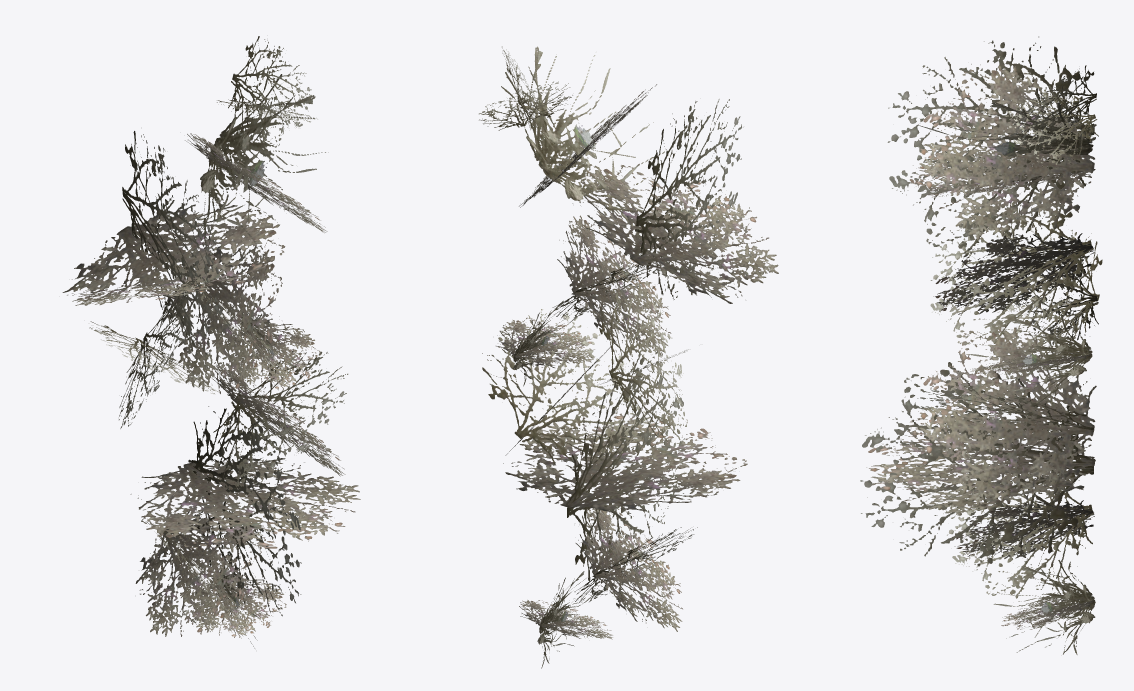
Rendered from tdr_h_bush_b.obj.
3 views of the same model, side by side, from view 1: azimuth 30°, elevation 25°; view 2: azimuth 150°, elevation 25°; view 3: azimuth 270°, elevation 25° (orthographic). The views are drawn at different scales.
Parts seen in each view (by area): view 1: tdr_h_bush_b.001; view 2: tdr_h_bush_b.001; view 3: tdr_h_bush_b.001.
Part boxes in pixels (<box>): tdr_h_bush_b.001: <box>62,36,360,648</box>; tdr_h_bush_b.001: <box>479,46,778,668</box>; tdr_h_bush_b.001: <box>860,36,1102,654</box>.
Bounding box in the file's own units: 469 × 935 × 368.
Materials: 1 (1 with a texture image).
